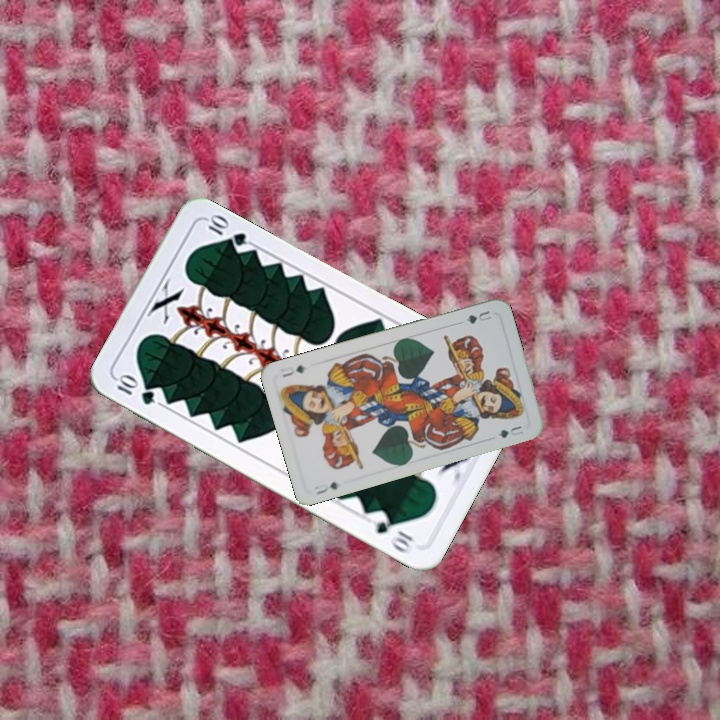G10: (112, 371, 158, 408)
GU: (462, 306, 494, 327), (310, 478, 340, 497)
